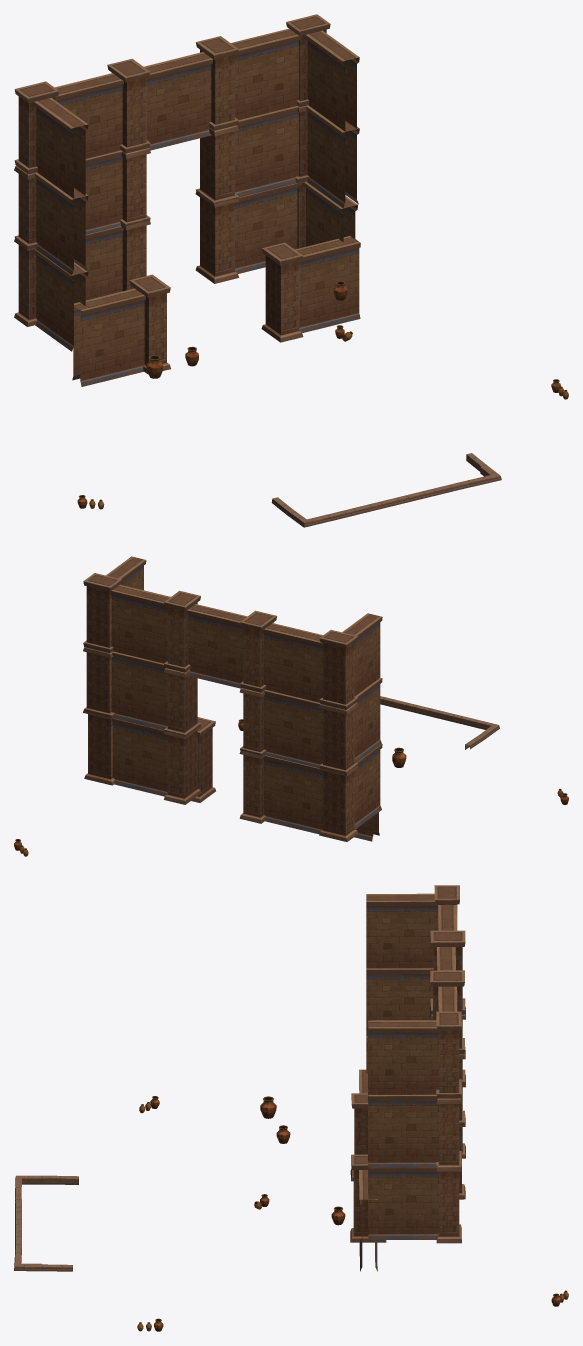
File: Area_05_1.FBX
3 renders of one model, top to bottom at view 1: azimuth 30°, elevation 25°; view 2: azimuth 150°, elevation 25°; view 3: azimuth 270°, elevation 25°, orthographic. The views are drawn at different scales.
Parts seen in each view (by area): view 1: Area_05_1; view 2: Area_05_1; view 3: Area_05_1.
Boxes of the visible parts, bbox=[...] form: Area_05_1: bbox=[14, 14, 568, 527]; Area_05_1: bbox=[14, 556, 568, 856]; Area_05_1: bbox=[14, 885, 568, 1331].
Bounding box in the file's own units: 4754 × 2666 × 4954.
